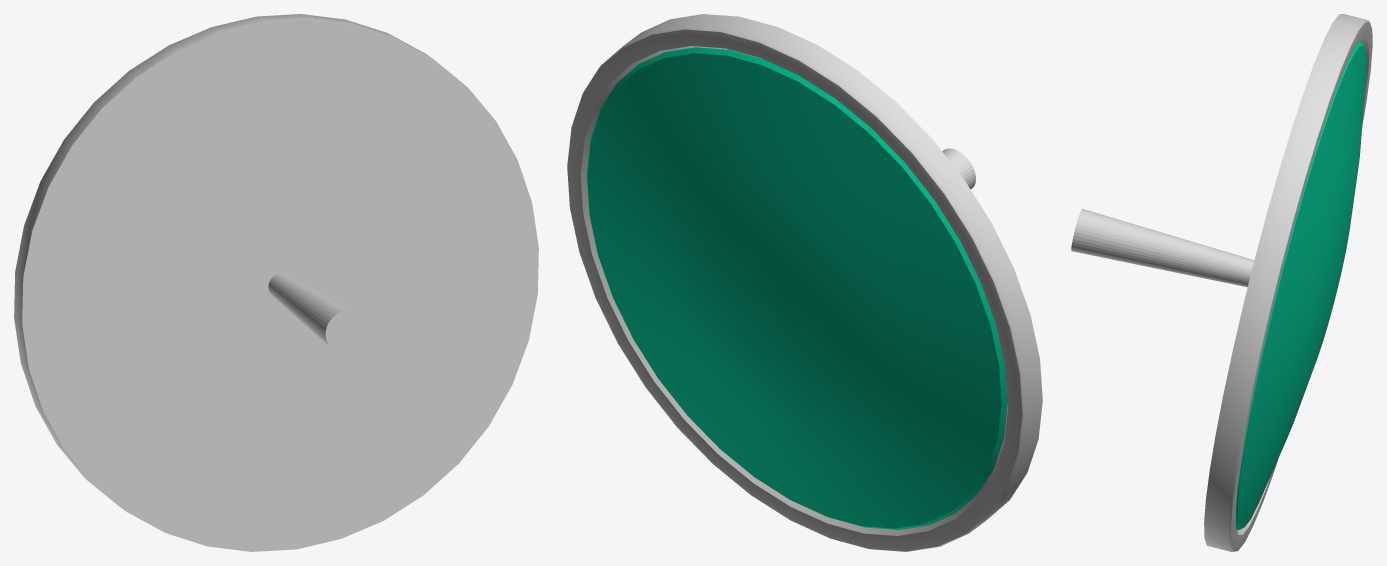
File: tight_mirror.fbx
The picture shows the model from 3 angles, left to right: view 1: azimuth 30°, elevation 25°; view 2: azimuth 150°, elevation 25°; view 3: azimuth 270°, elevation 25°; orthographic projection. The views are drawn at different scales.
Visible parts, largest first — view 1: Cylinder014; view 2: Cylinder014; view 3: Cylinder014.
Boxes of the visible parts, bbox=[...] form: Cylinder014: bbox=[14, 14, 538, 551]; Cylinder014: bbox=[567, 14, 1042, 551]; Cylinder014: bbox=[1071, 14, 1372, 551].
Size of the model in its own units: 7.09 by 7.1 by 3.92.
